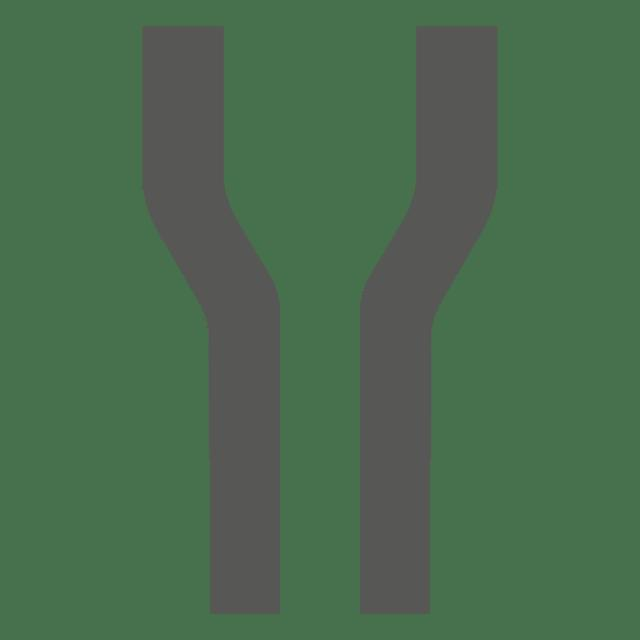road widens ahead: (60, 19, 585, 625)
